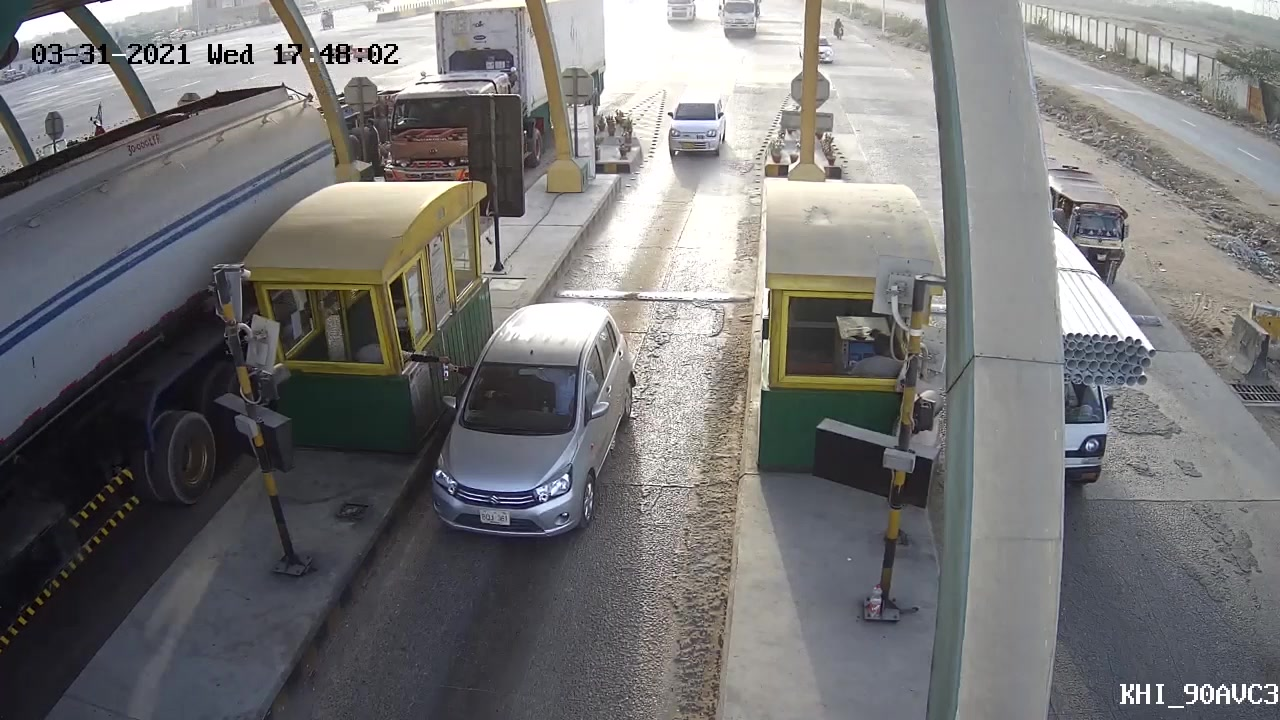F1: (422, 290, 640, 565), (663, 88, 728, 159)
